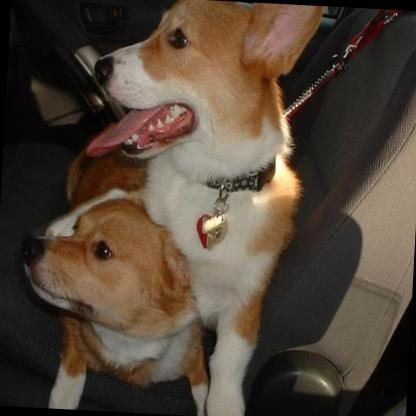Pembroke: (68, 0, 323, 416), (11, 144, 220, 414)
